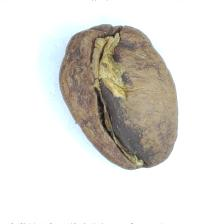NG: (83, 26, 165, 169)
